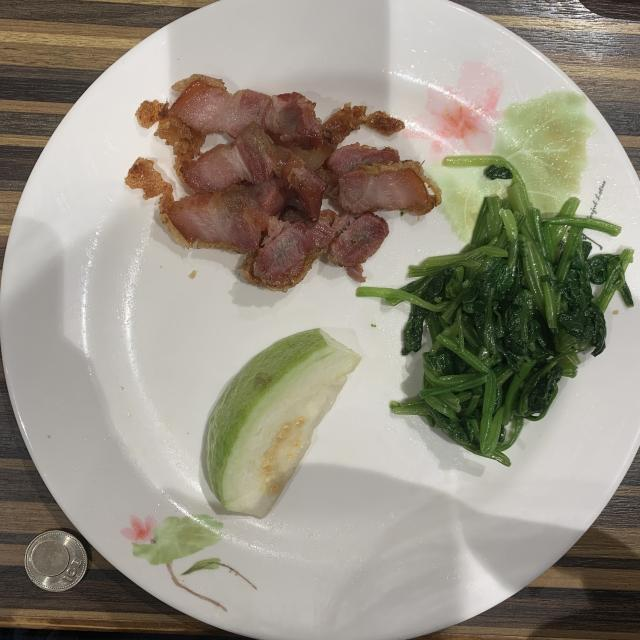coin: (25, 531, 88, 592)
guava -sliced-: (208, 329, 360, 518)
mustard greens: (356, 156, 634, 465)
red grilled pork: (125, 74, 440, 290)
